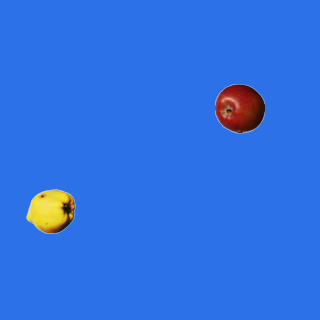Apple Braeburn: (214, 83, 264, 133)
Quince: (25, 186, 75, 236)
